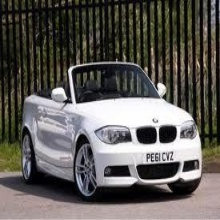no damage: (21, 59, 203, 201)
